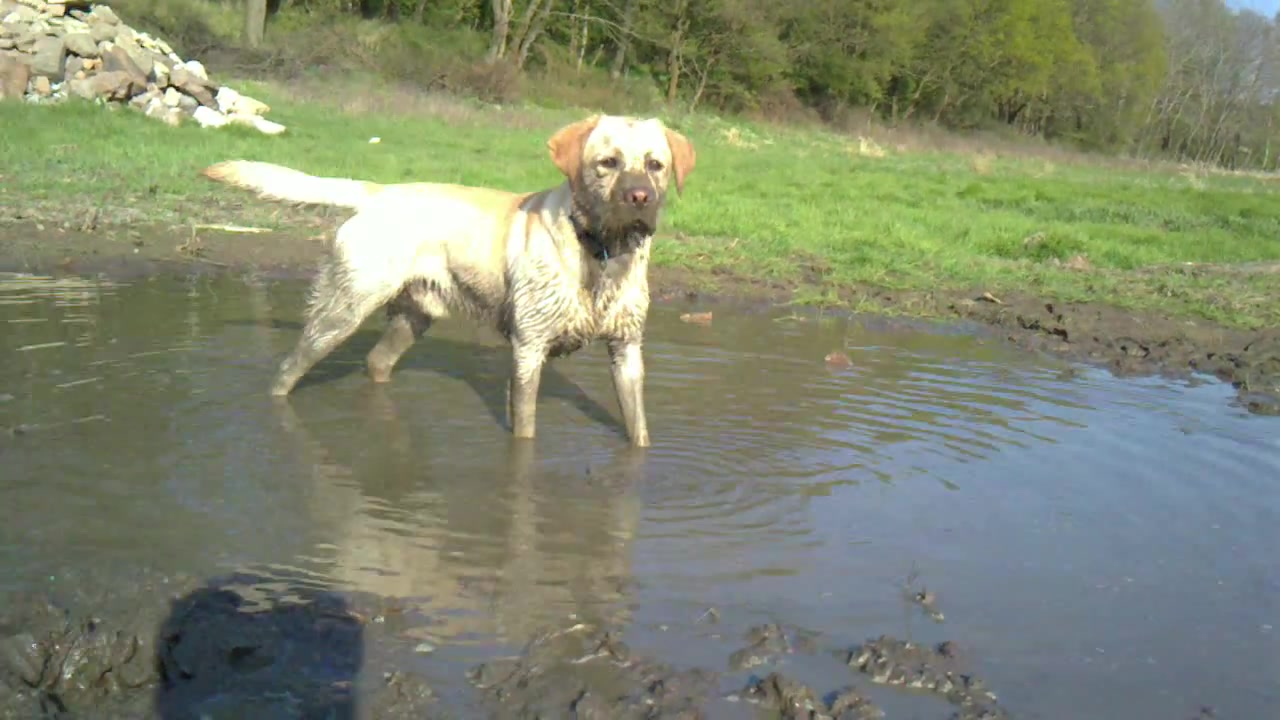dog: (200, 112, 699, 449)
